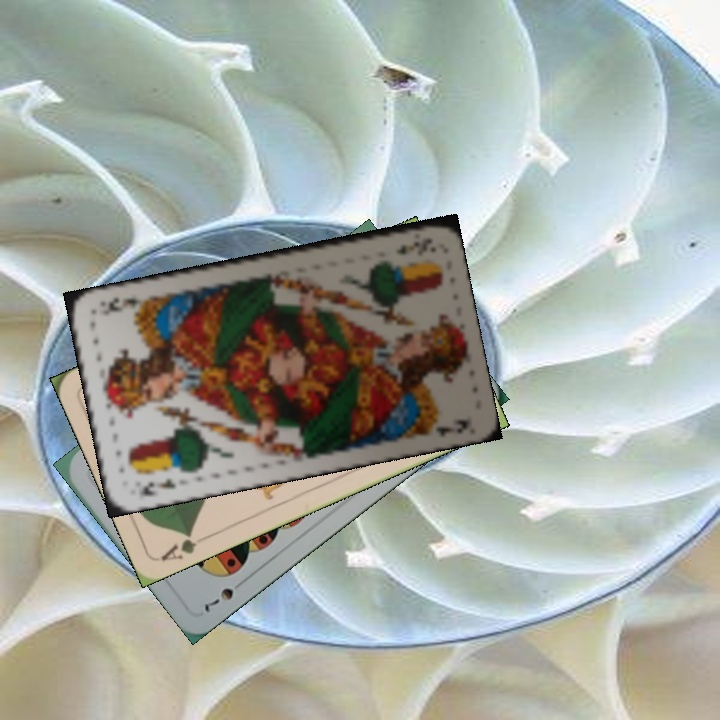EK: (135, 474, 179, 500), (392, 234, 435, 257)
GA: (156, 527, 212, 564)
S7: (200, 575, 249, 615)
